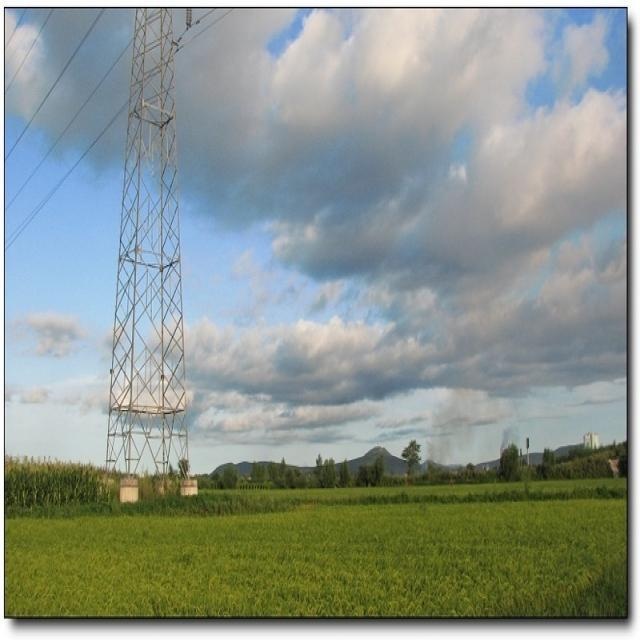non-critical vegetation: (110, 24, 202, 486)
